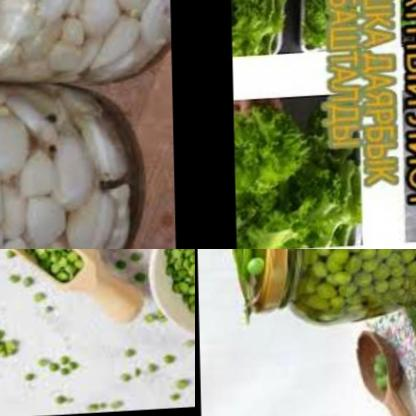garlic: (0, 78, 137, 249), (0, 0, 169, 92)
peas: (294, 249, 416, 330), (111, 345, 195, 392), (111, 249, 167, 302), (0, 312, 35, 389), (43, 394, 141, 416), (3, 279, 53, 317), (223, 249, 258, 299), (167, 354, 195, 412), (132, 307, 174, 339), (356, 362, 386, 403), (40, 361, 86, 386), (406, 304, 416, 375)
salad: (233, 104, 358, 247), (230, 0, 293, 62), (291, 0, 357, 52)
